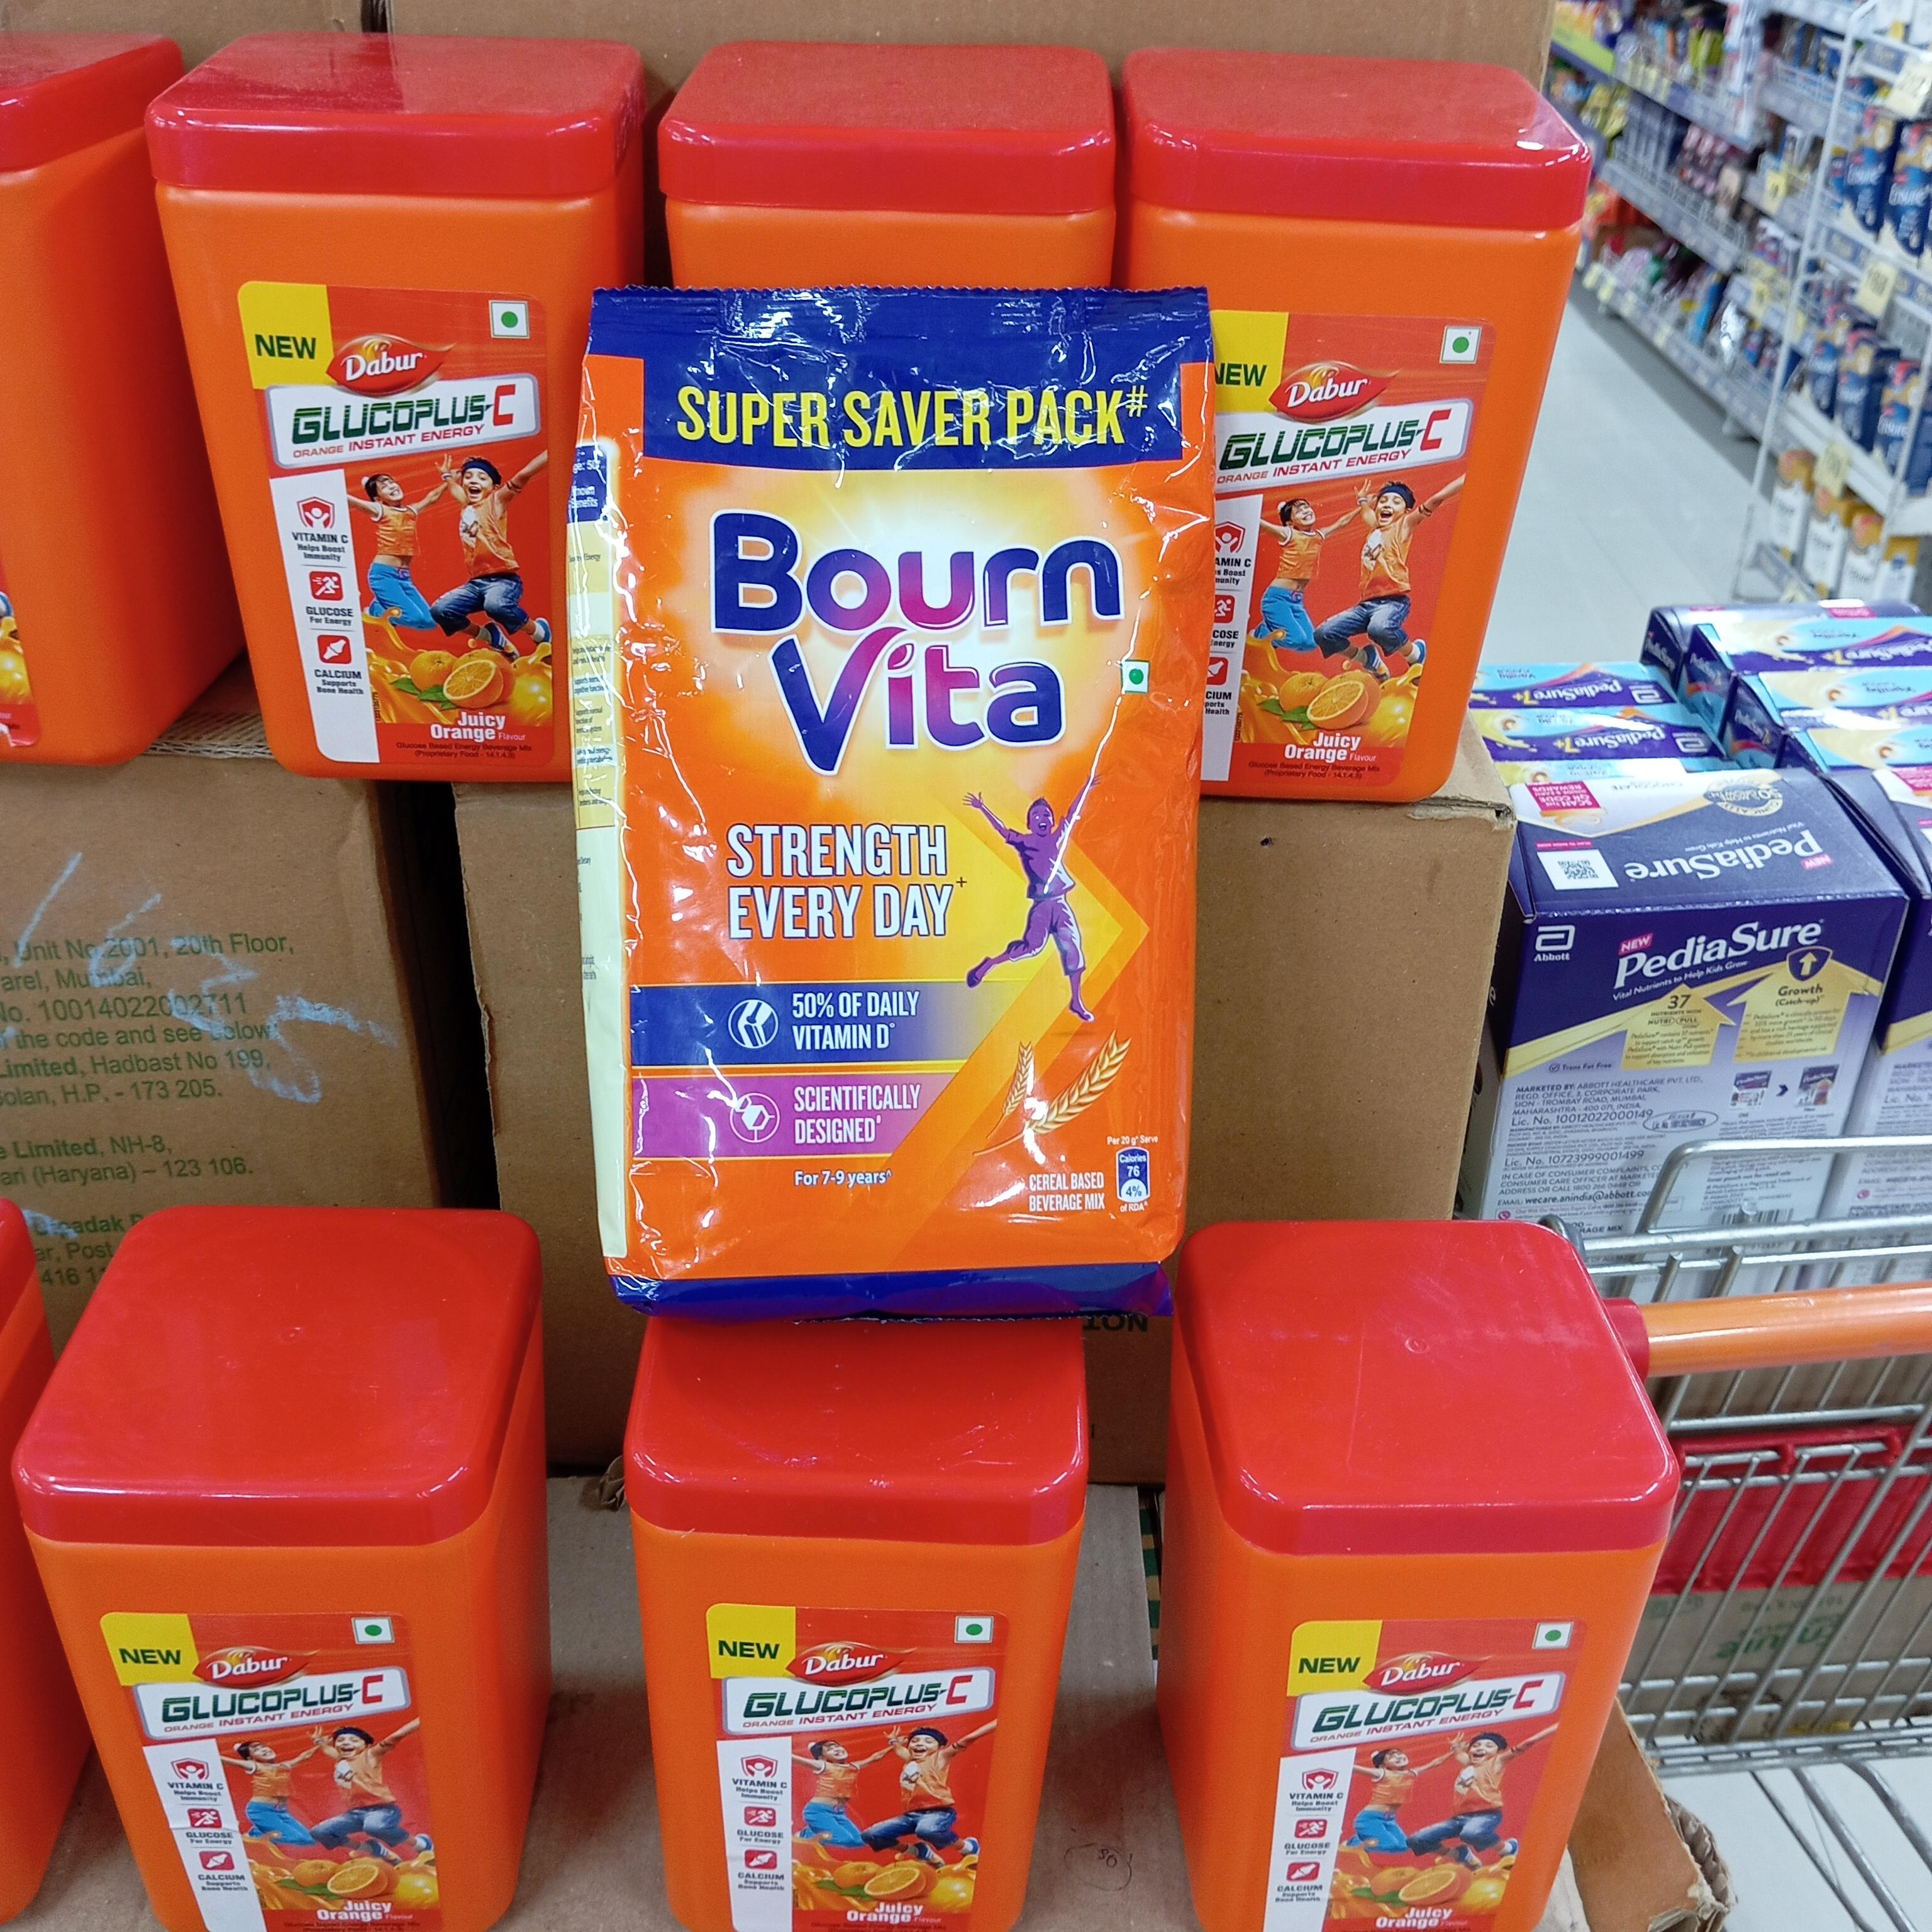BOURN_VITA_1_KG_POUCH: (577, 299, 1189, 1320)
